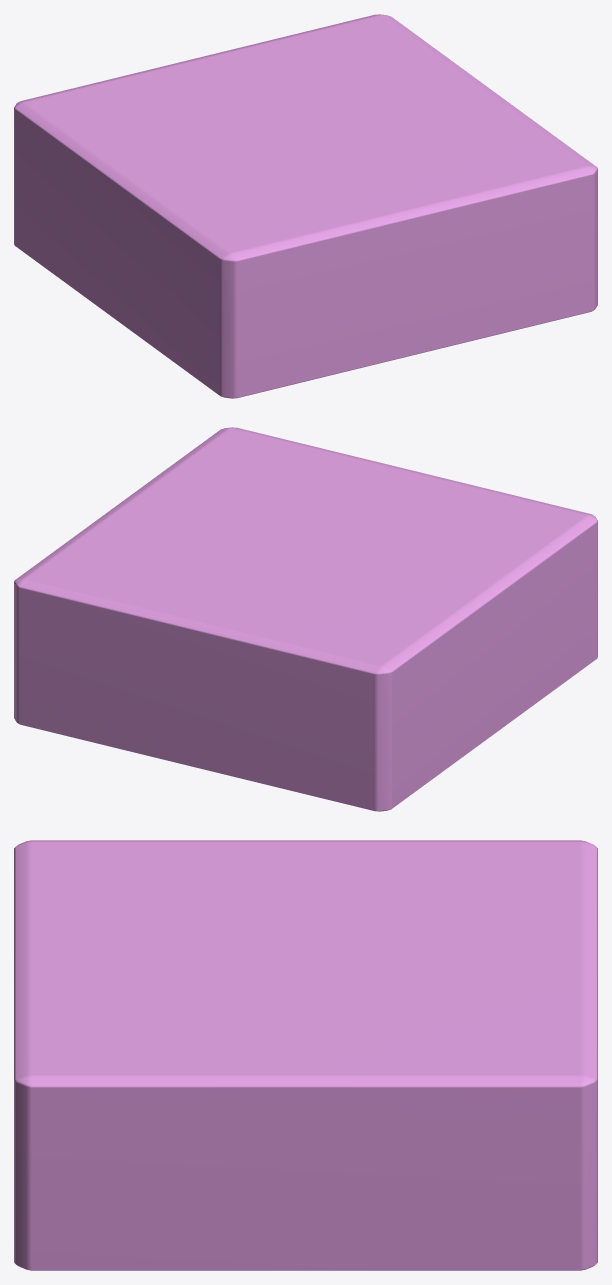
File: BouncePad.fbx
The picture shows the model from 3 angles, top to bottom: view 1: azimuth 30°, elevation 25°; view 2: azimuth 150°, elevation 25°; view 3: azimuth 270°, elevation 25°; orthographic projection. The views are drawn at different scales.
Visible parts, largest first — view 1: BounceBlock; view 2: BounceBlock; view 3: BounceBlock.
Boxes of the visible parts, box(x1,y1,x2,y2) form: BounceBlock: box(14, 14, 597, 398); BounceBlock: box(14, 427, 597, 811); BounceBlock: box(14, 840, 597, 1270).
Size of the model in its own units: 0.2913 by 0.1066 by 0.2913.
